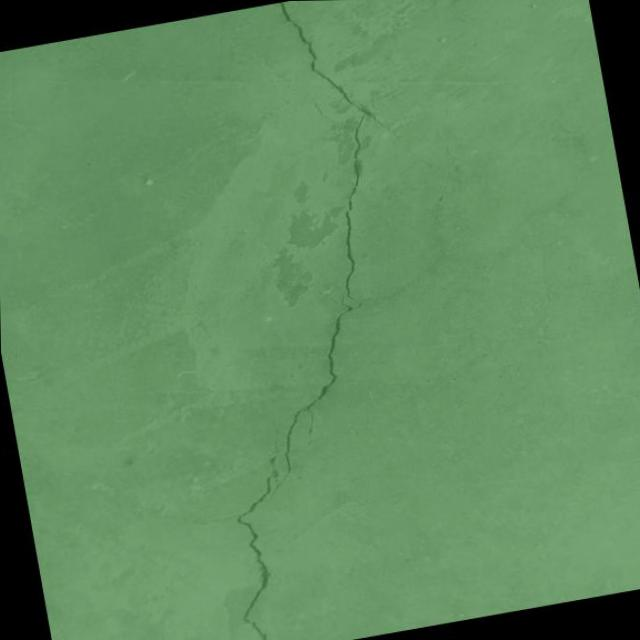crack: (137, 0, 510, 640), (422, 170, 469, 228), (182, 509, 236, 528), (444, 147, 449, 158)
